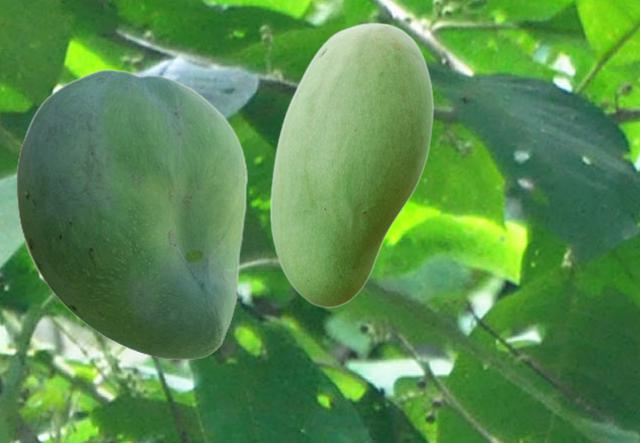green_mango: (16, 69, 246, 359), (269, 22, 432, 307)
